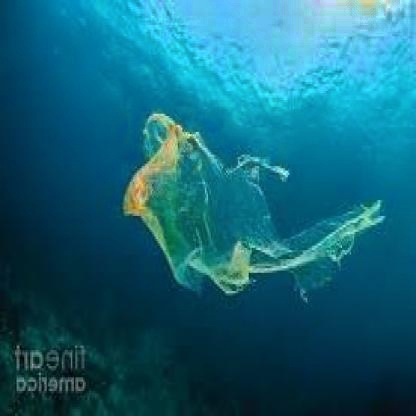pbag: (116, 100, 389, 309)
